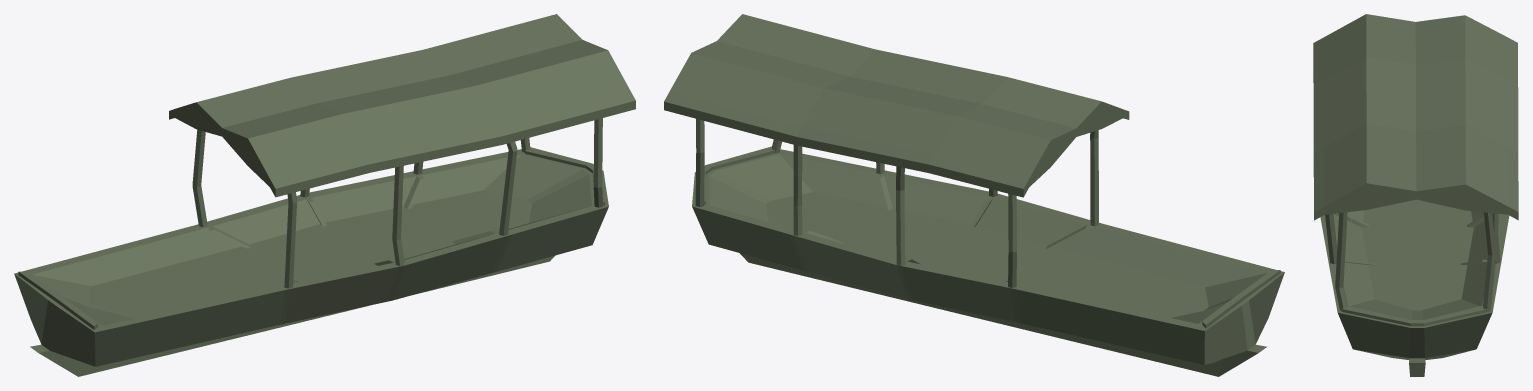
Rendered from biggerboat.fbx.
The picture shows the model from 3 angles, left to right: view 1: azimuth 30°, elevation 25°; view 2: azimuth 150°, elevation 25°; view 3: azimuth 270°, elevation 25°; orthographic projection. The views are drawn at different scales.
Parts seen in each view (by area): view 1: ReallyBigBoat; view 2: ReallyBigBoat; view 3: ReallyBigBoat.
Boxes of the visible parts, <box> form: ReallyBigBoat: <box>14,14,635,376</box>; ReallyBigBoat: <box>664,14,1284,376</box>; ReallyBigBoat: <box>1313,14,1518,376</box>.
Bounding box in the file's own units: 399 × 148 × 130.
